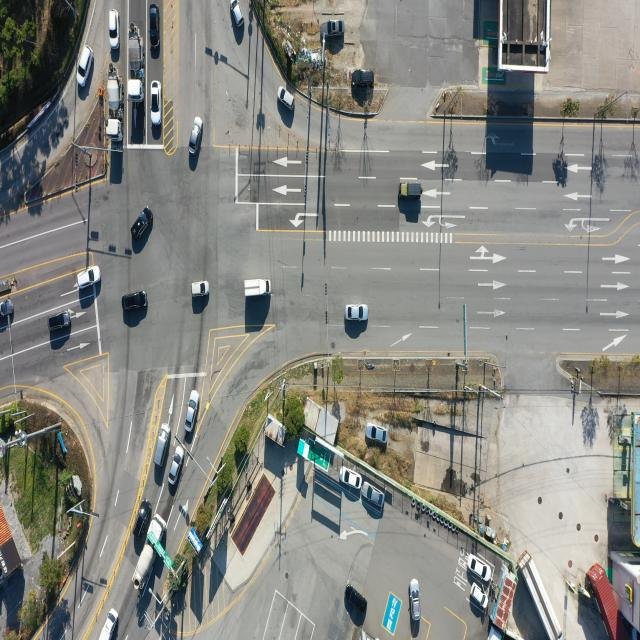car: (131, 497, 151, 546), (344, 585, 369, 622), (75, 46, 93, 87), (156, 423, 172, 468), (131, 209, 152, 242), (169, 444, 185, 484), (470, 555, 492, 583), (184, 390, 198, 433), (76, 266, 100, 290), (124, 290, 148, 312), (363, 483, 384, 508), (341, 466, 363, 489), (189, 116, 202, 154), (472, 581, 490, 607), (49, 311, 72, 331), (399, 181, 424, 199), (150, 80, 160, 124), (411, 578, 421, 621), (149, 5, 158, 52), (365, 423, 386, 443), (351, 69, 373, 87), (109, 10, 119, 48), (346, 305, 368, 322), (324, 20, 344, 37), (232, 0, 245, 26), (0, 301, 14, 321), (192, 282, 210, 297)
medium_truck: (523, 552, 564, 638), (133, 514, 166, 592), (105, 73, 124, 142), (129, 25, 142, 77)
small_truck: (96, 608, 117, 640), (244, 278, 271, 298), (278, 88, 295, 114)
